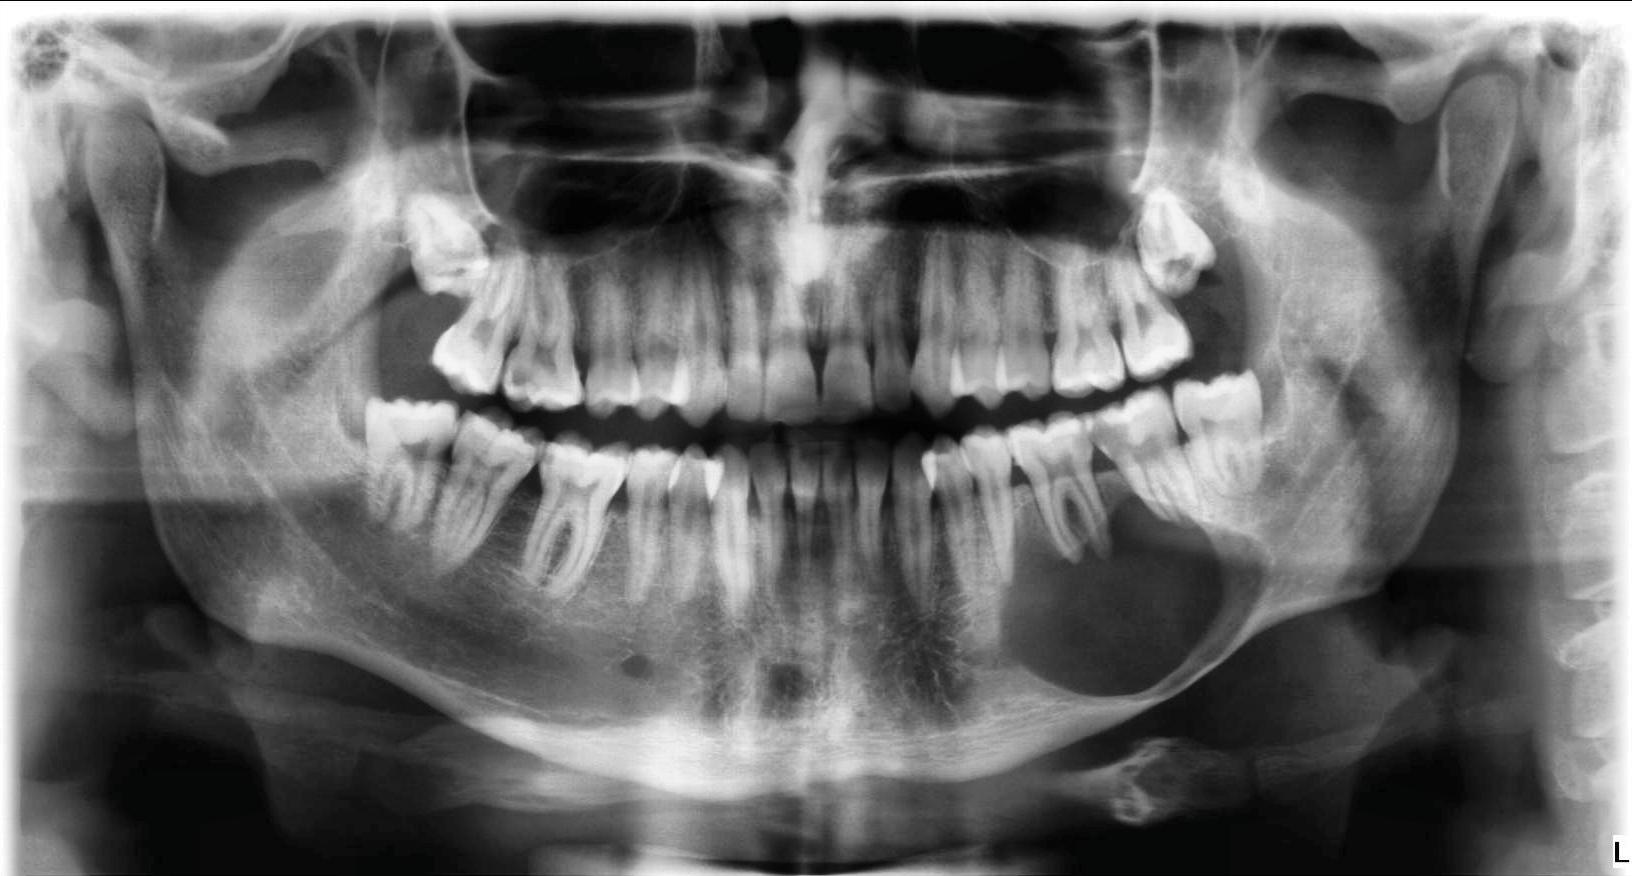keratokist: (997, 477, 1268, 698)
